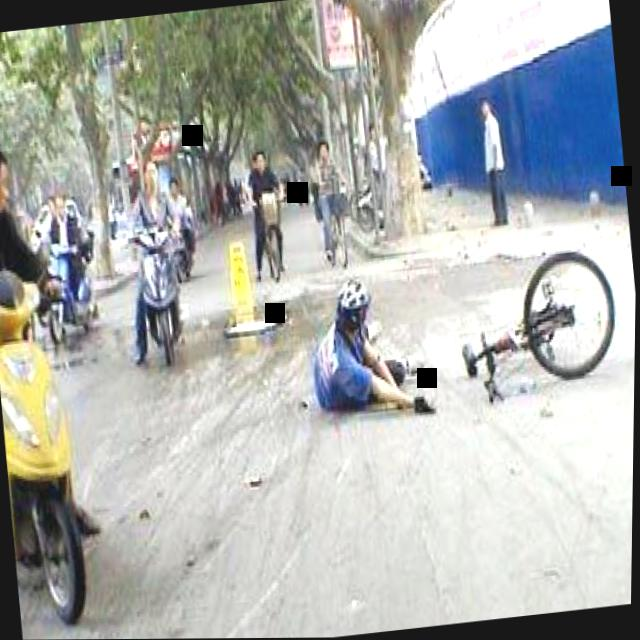Fall-Detected: (295, 252, 441, 435)
